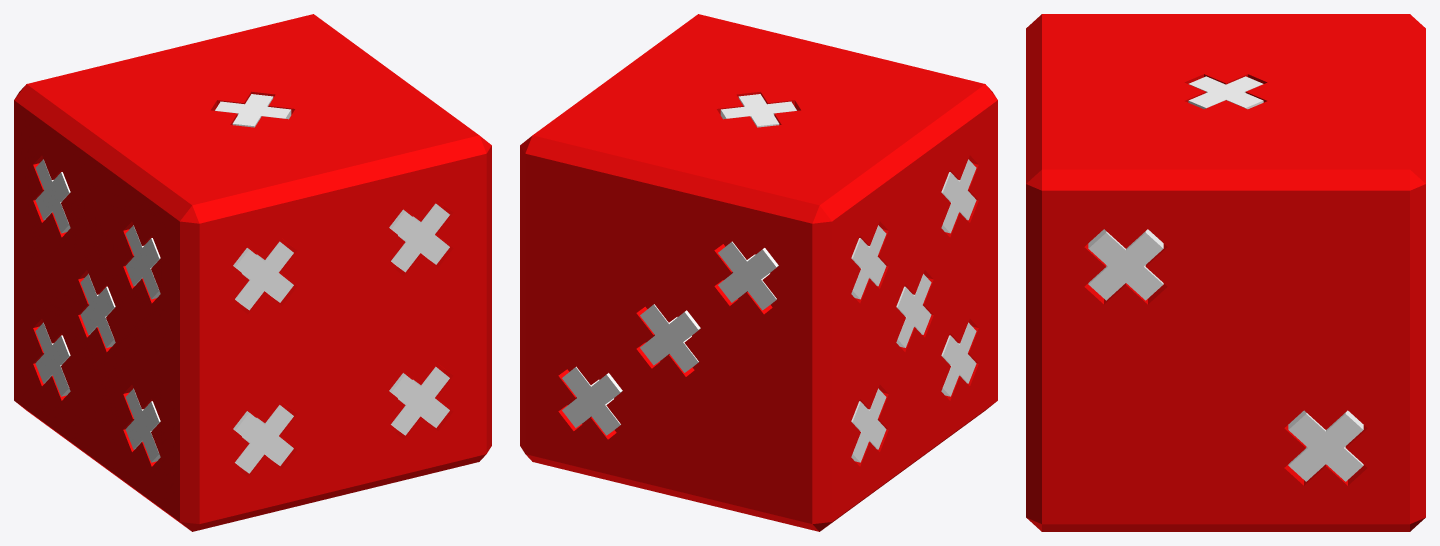
The model's file is 3_multiply_dice_red.gltf.
3 renders of one model, left to right at view 1: azimuth 30°, elevation 25°; view 2: azimuth 150°, elevation 25°; view 3: azimuth 270°, elevation 25°, orthographic. The views are drawn at different scales.
Parts seen in each view (by area): view 1: D6_Dice_Red; view 2: D6_Dice_Red; view 3: D6_Dice_Red.
Part boxes in pixels (x1,y1,x2,y2): D6_Dice_Red: [14, 14, 491, 531]; D6_Dice_Red: [520, 14, 997, 531]; D6_Dice_Red: [1026, 14, 1425, 531].
Bounding box in the file's own units: 2 × 2 × 2.
